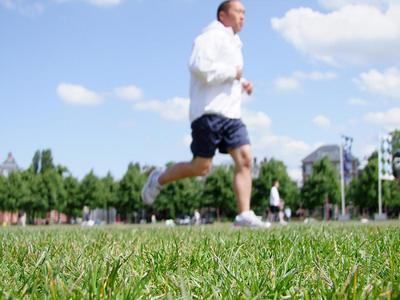person: (144, 2, 271, 229)
